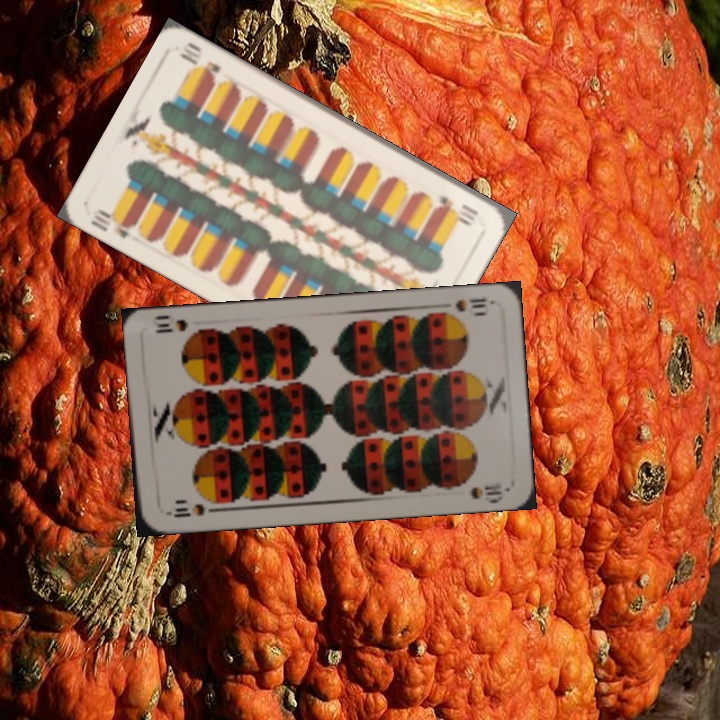E10: (86, 205, 139, 241), (434, 191, 481, 226)
S10: (437, 294, 496, 320), (161, 500, 207, 521)
